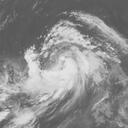cyclone: (24, 10, 125, 116)
